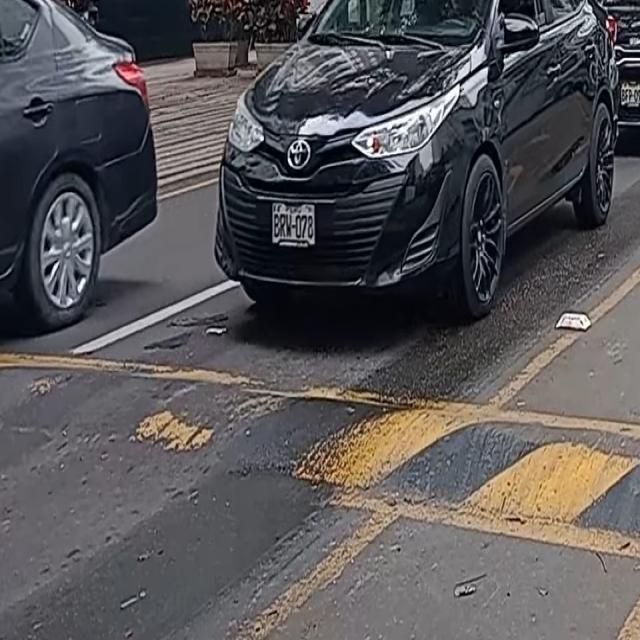car: (217, 0, 616, 302), (0, 0, 156, 341), (601, 0, 640, 127)
